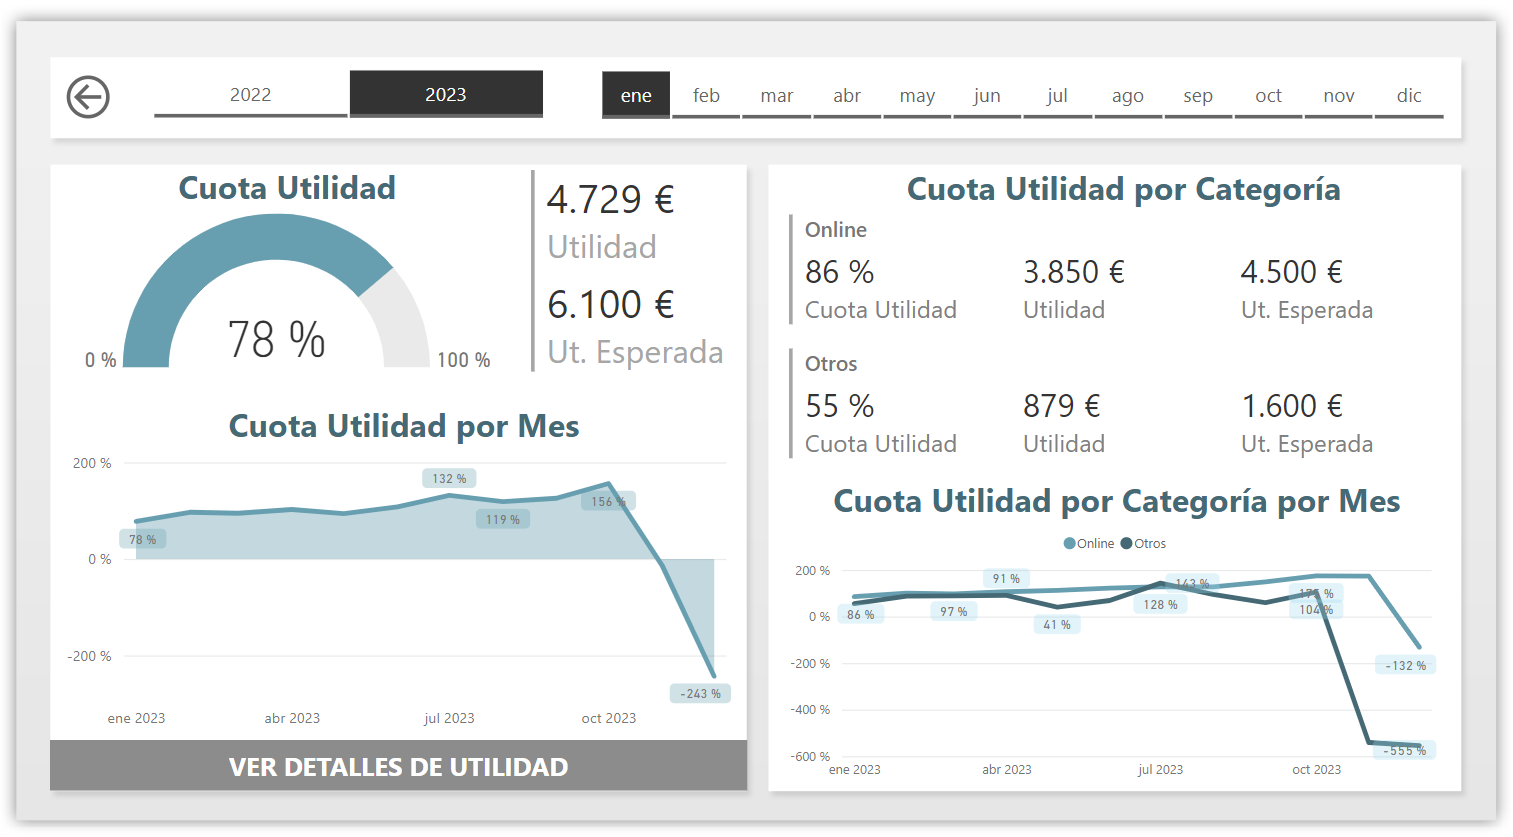

The page's visual inventory and layout, read from the dashboard file:
{"tool":"powerbi","page":{"name":"Cuota Utilidad","canvas":[1280,720],"ordinal":6},"visuals":[{"type":"slicer","fields":{"Values":["Calendarios.Año"]},"box":[116.7,59.8,371.7,53.3],"z":0},{"type":"slicer","fields":{"Values":["Calendarios.Mes"]},"box":[488.1,60.5,746.7,53.3],"z":1000},{"type":"gauge","title":"Cuota Utilidad","fields":{"Y":["Cuotas %.Cuota Utilidad"]},"box":[56.7,144.2,393.3,178.3],"z":2000},{"type":"multiRowCard","fields":{"Values":["Finanzas.Utilidad","Expectativas.Ut. Esperada"]},"box":[450,144.2,184.2,178.3],"z":3000},{"type":"multiRowCard","title":"Cuota Utilidad por Categoría","fields":{"Values":["Categorias.Cat-Otros","Cuotas %.Cuota Utilidad","Finanzas.Utilidad","Expectativas.Ut. Esperada"]},"box":[663.3,145,565,270],"z":4000},{"type":"areaChart","title":"Cuota Utilidad por Mes","fields":{"Category":["Calendarios.Fecha"],"Y":["Cuotas %.Cuota Utilidad"]},"box":[65,341.7,570,280],"z":5000},{"type":"lineChart","title":"Cuota Utilidad por Categoría por Mes","fields":{"Category":["Calendarios.Fecha"],"Series":["Categorias.Cat-Otros"],"Y":["Cuotas %.Cuota Utilidad"]},"box":[663.3,403.3,553.3,260],"z":6000},{"type":"actionButton","box":[65,61.5,46.7,55],"z":7000},{"type":"actionButton","box":[56.7,621.7,577.5,41.7],"z":8000}]}

Visuals, with their boxes in screenshot pixels (x1, y1, x2, y2), scaled from the page's 1280x720 canvas onto the 1513x837 screenshot:
slicer - Calendarios.Año: Rect(138, 70, 577, 131)
slicer - Calendarios.Mes: Rect(577, 70, 1460, 132)
"Cuota Utilidad" gauge: Rect(67, 168, 532, 375)
multiRowCard - Finanzas.Utilidad x Expectativas.Ut. Esperada: Rect(532, 168, 750, 375)
"Cuota Utilidad por Categoría" multiRowCard: Rect(784, 169, 1452, 482)
"Cuota Utilidad por Mes" areaChart: Rect(77, 397, 751, 723)
"Cuota Utilidad por Categoría por Mes" lineChart: Rect(784, 469, 1438, 771)
actionButton: Rect(77, 71, 132, 135)
actionButton: Rect(67, 723, 750, 771)
